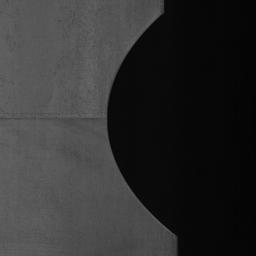Crescent gap: (107, 13, 175, 235)
